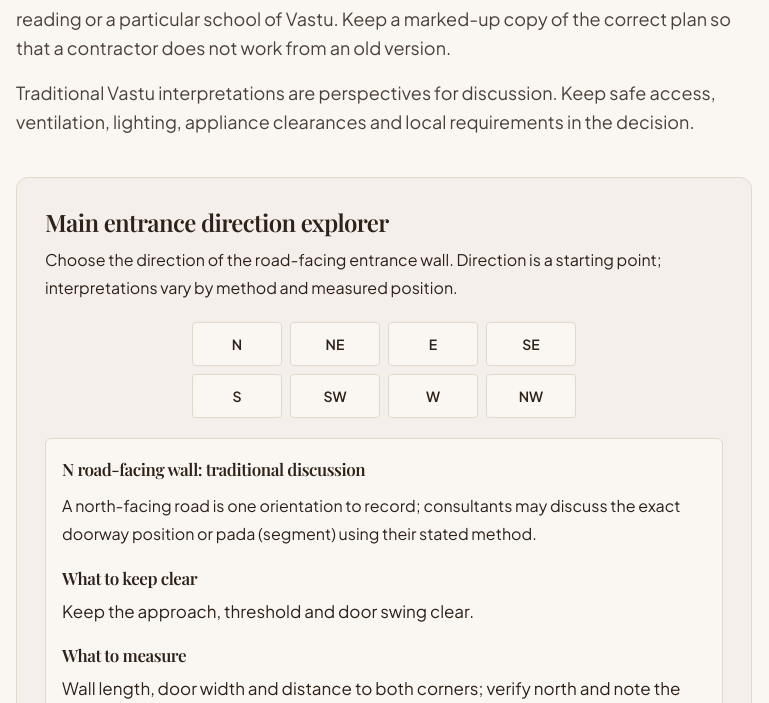
Test case: blog article guides › shows direction-specific entrance notes, measurements and consultant questions
(page scrolled)
Click the button "SE" at (531, 344), box [486,322,576,366]
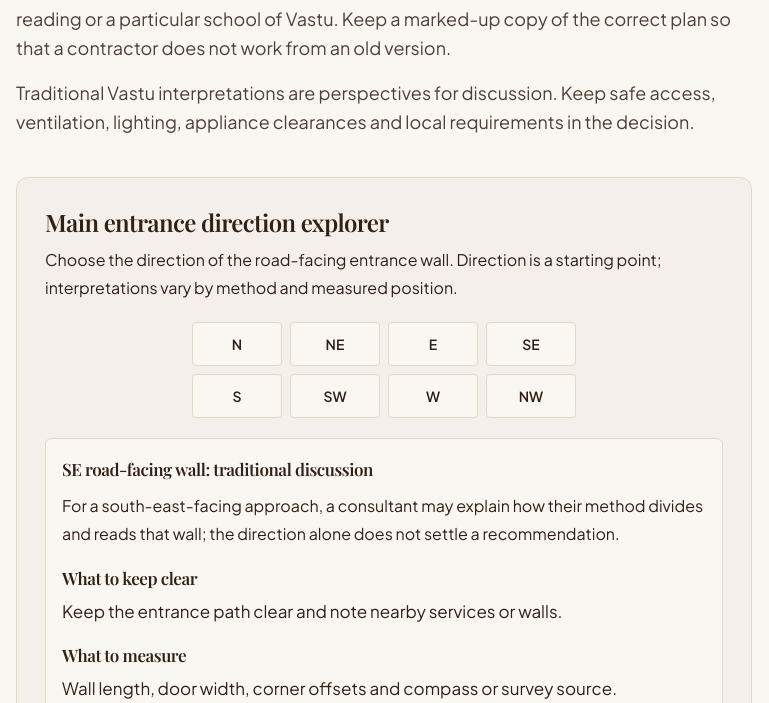
Check: the heading "SE road-facing wall: traditional discussion" is shown, box [62,458,373,480]
Check: the text "how their method divides and reads that wall" is shown, box [62,494,703,544]
Check: the text "Wall length, door width, corner offsets" is shown, box [62,676,617,698]
Click the button "NW" at (531, 396), box [486,374,576,418]
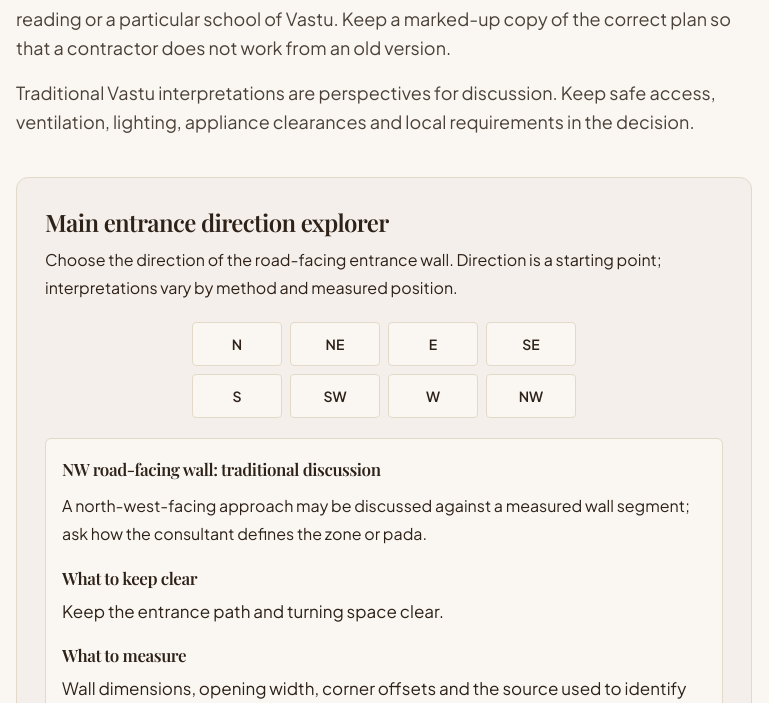
Check: the heading "NW road-facing wall: traditional discussion" is shown, box [62,458,381,480]
